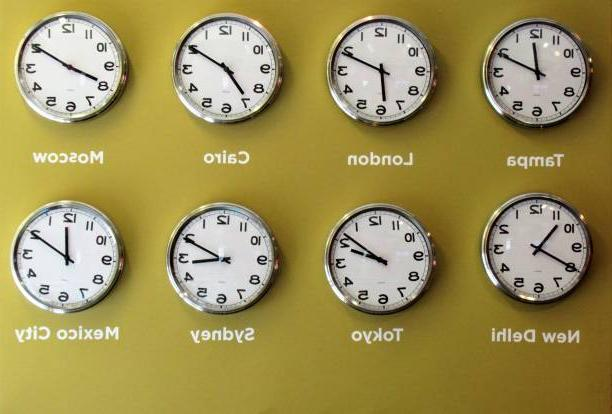clock: (4, 8, 145, 144), (320, 190, 434, 332), (6, 190, 129, 318), (177, 12, 290, 142), (475, 194, 594, 317), (160, 202, 280, 320), (475, 17, 592, 132), (331, 19, 443, 133)
